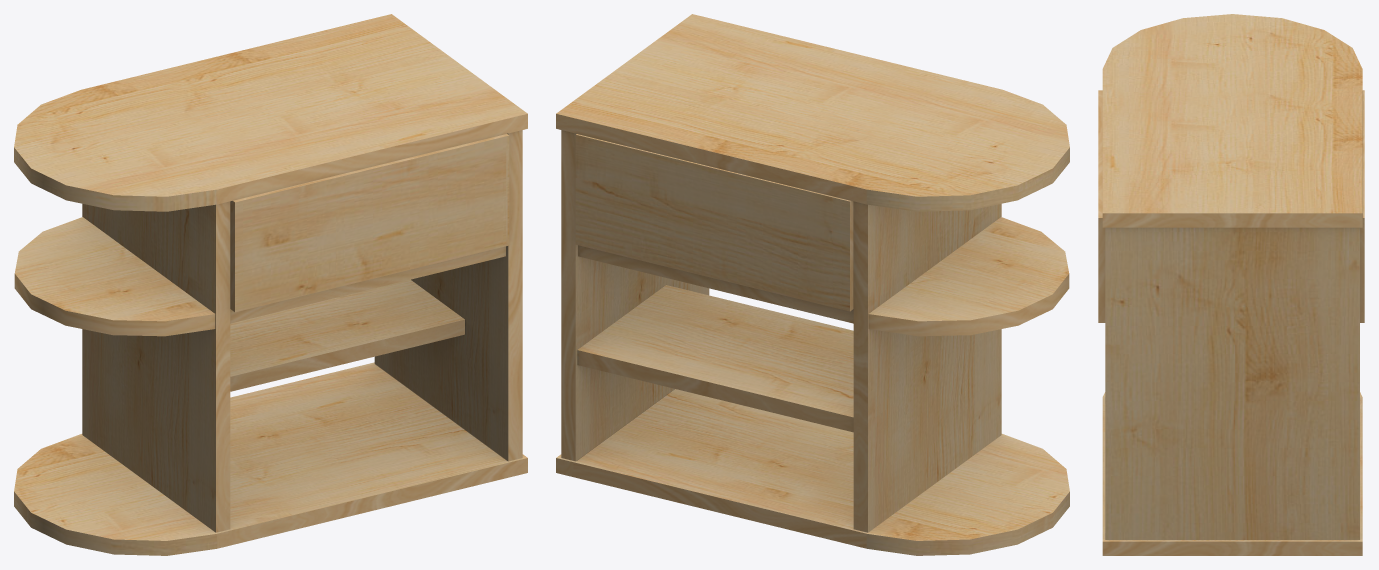
The model's file is cabinetRoundedSmall.fbx.
The picture shows the model from 3 angles, left to right: view 1: azimuth 30°, elevation 25°; view 2: azimuth 150°, elevation 25°; view 3: azimuth 270°, elevation 25°; orthographic projection. The views are drawn at different scales.
Parts seen in each view (by area): view 1: cabinetRoundedSmall; view 2: cabinetRoundedSmall; view 3: cabinetRoundedSmall.
Boxes of the visible parts, box(x1,y1,x2,y2) form: cabinetRoundedSmall: box(14, 14, 527, 555); cabinetRoundedSmall: box(556, 14, 1069, 555); cabinetRoundedSmall: box(1098, 14, 1364, 555).
Size of the model in its own units: 1.66 by 1.33 by 0.9373.
1 material, 1 textured.
